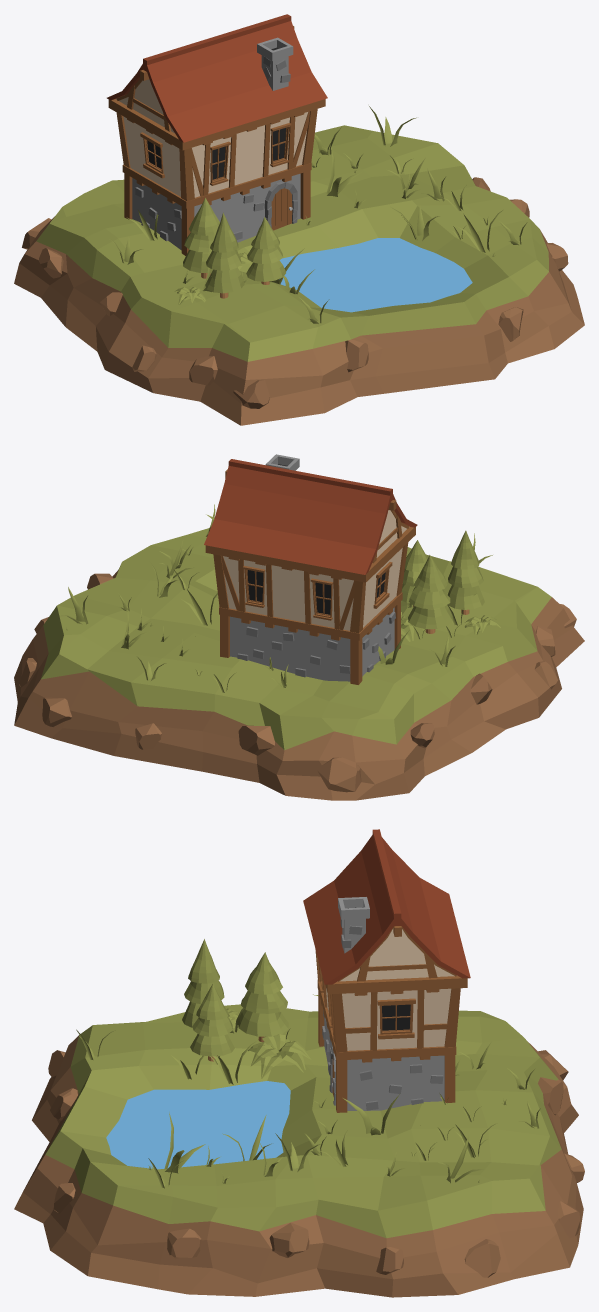
File: HouseScene.fbx
3 renders of one model, top to bottom at view 1: azimuth 30°, elevation 25°; view 2: azimuth 150°, elevation 25°; view 3: azimuth 270°, elevation 25°, orthographic. The views are drawn at different scales.
Parts seen in each view (by area): view 1: Nature, Housemain, Houseroof, HouseParts, RoofParts, Cobblestone, Door; view 2: Nature, Housemain, Houseroof, HouseParts, Cobblestone; view 3: Nature, Housemain, Houseroof, HouseParts, RoofParts, Cobblestone.
Boxes of the visible parts, x1,y1,x2,y2 form: Nature: [14, 106, 584, 425]; Housemain: [108, 79, 325, 250]; Houseroof: [107, 14, 327, 142]; HouseParts: [116, 85, 317, 255]; RoofParts: [257, 37, 293, 90]; Cobblestone: [135, 181, 297, 241]; Door: [271, 188, 292, 230]; Nature: [14, 504, 584, 800]; Housemain: [205, 510, 415, 681]; Houseroof: [204, 459, 417, 574]; HouseParts: [213, 515, 408, 684]; Cobblestone: [237, 611, 395, 677]; Nature: [14, 939, 584, 1297]; Housemain: [317, 928, 467, 1110]; Houseroof: [303, 829, 470, 984]; HouseParts: [315, 949, 460, 1112]; RoofParts: [338, 897, 369, 953]; Cobblestone: [322, 1010, 443, 1110].
Bounding box in the file's own units: 2189 × 1185 × 2159.
